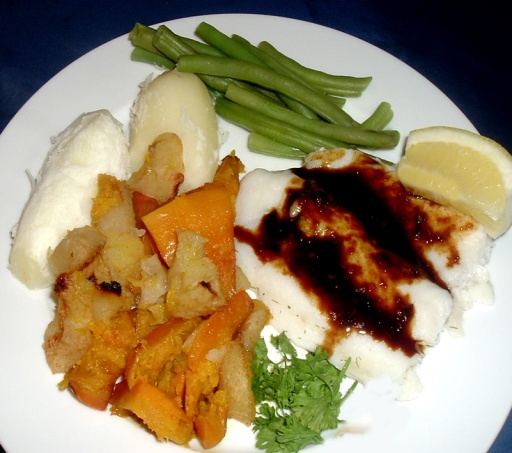background: (6, 15, 409, 320)
